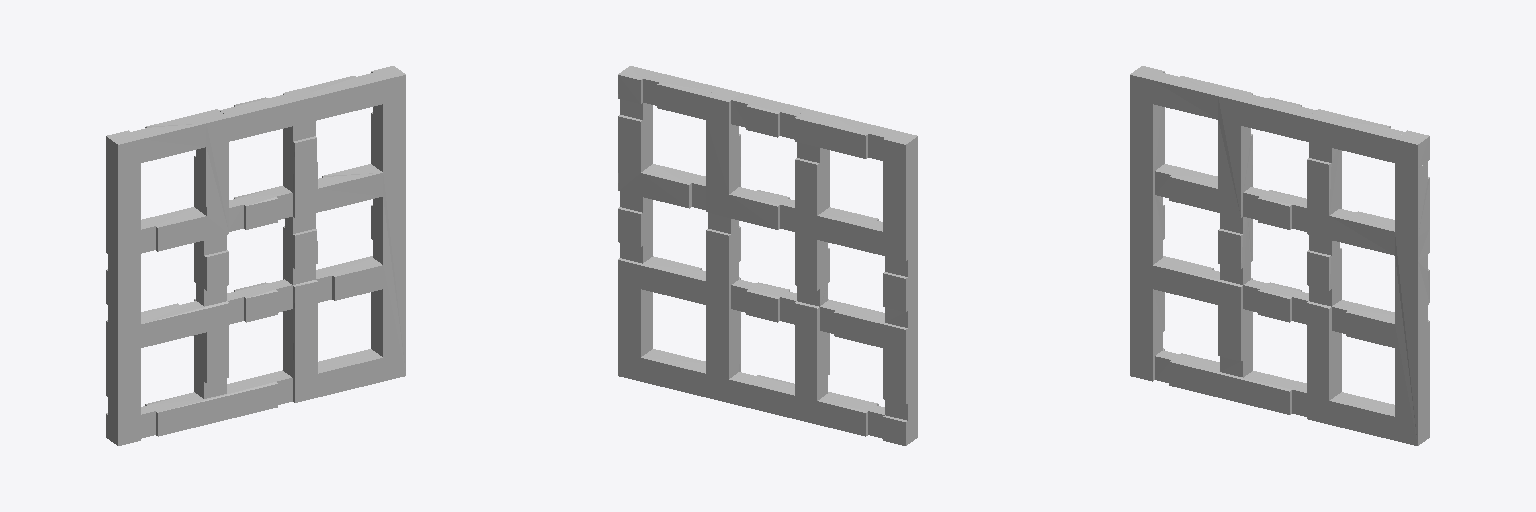
Rendered from dual.tcp.obj.
The picture shows the model from 3 angles: view 1: azimuth 30°, elevation 25°; view 2: azimuth 150°, elevation 25°; view 3: azimuth 330°, elevation 25°; orthographic projection.
Bounding box in the file's own units: 61.6 × 61.6 × 4.57.